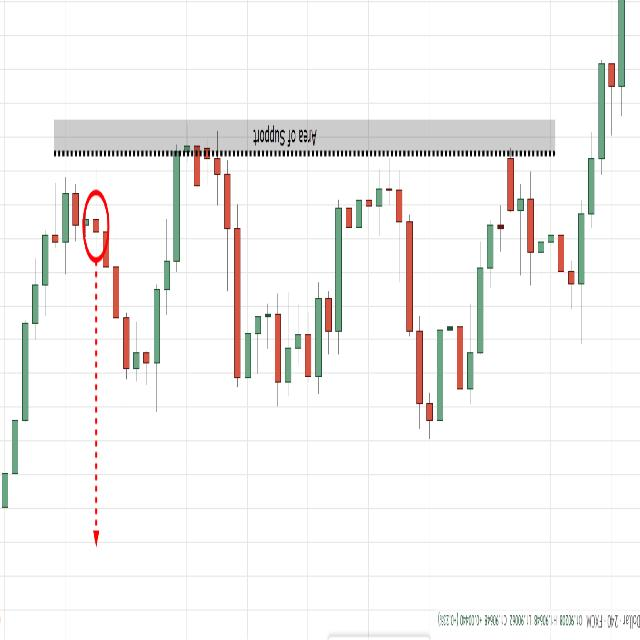Triple-Bottom: (101, 152, 519, 432)
